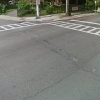crosswalk: (54, 21, 100, 35), (0, 21, 35, 32)
